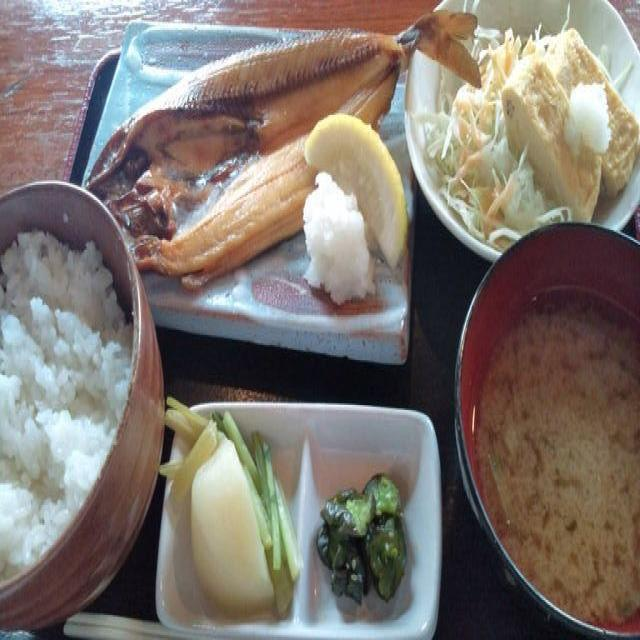Rice: (0, 217, 121, 580)
